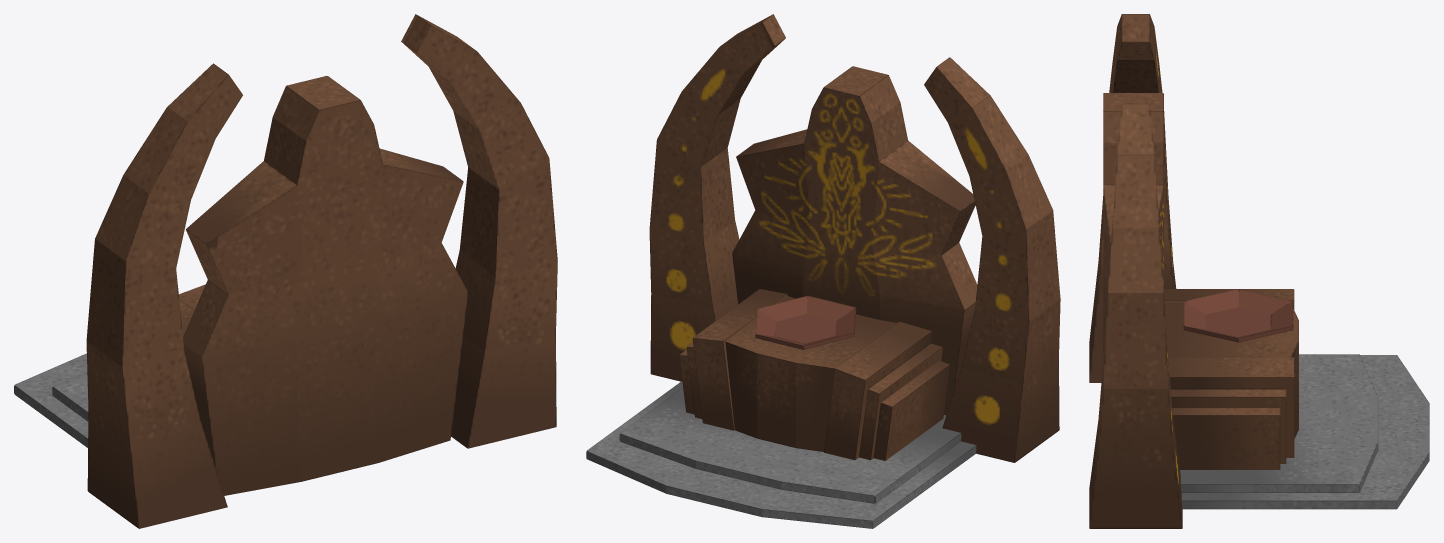
Rendered from DragonShrine.fbx.
The picture shows the model from 3 angles, left to right: view 1: azimuth 30°, elevation 25°; view 2: azimuth 150°, elevation 25°; view 3: azimuth 270°, elevation 25°; orthographic projection. The views are drawn at different scales.
Visible parts, largest first — view 1: cuboid; view 2: cuboid; view 3: cuboid.
Part boxes in pixels (x1,y1,x2,y2): cuboid: [14, 14, 557, 528]; cuboid: [586, 14, 1060, 528]; cuboid: [1089, 14, 1429, 528].
Bounding box in the file's own units: 612 × 558 × 456.
Materials: 1 (1 with a texture image).
